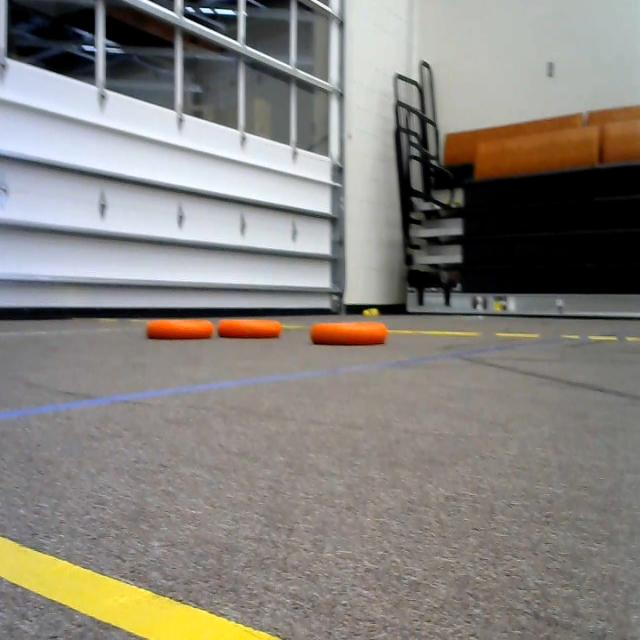note: (217, 311, 290, 344), (307, 319, 393, 347), (147, 315, 215, 347)
